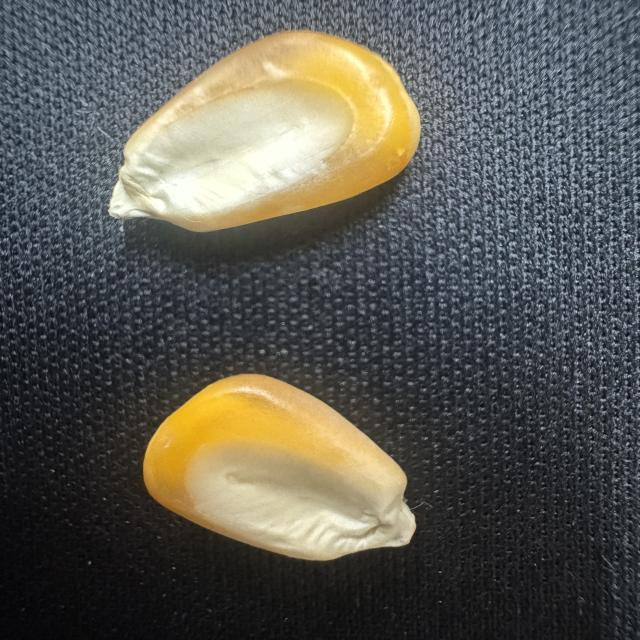Good-Seed: (103, 26, 423, 238), (138, 370, 420, 564)
